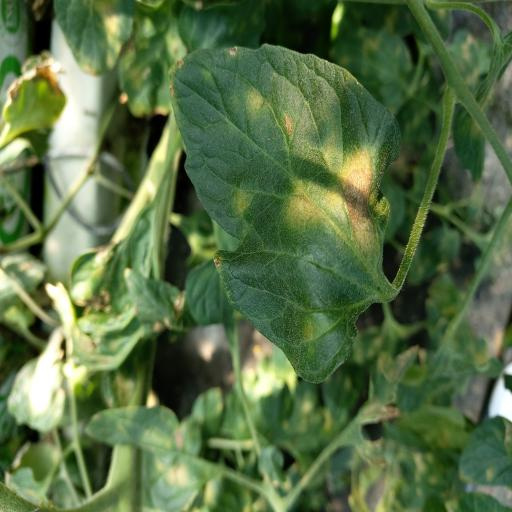disease_tomato: (168, 41, 403, 379)
